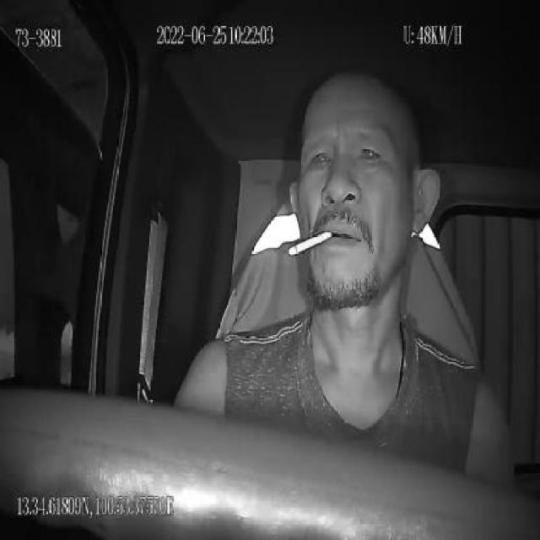smoking: (287, 228, 332, 259)
